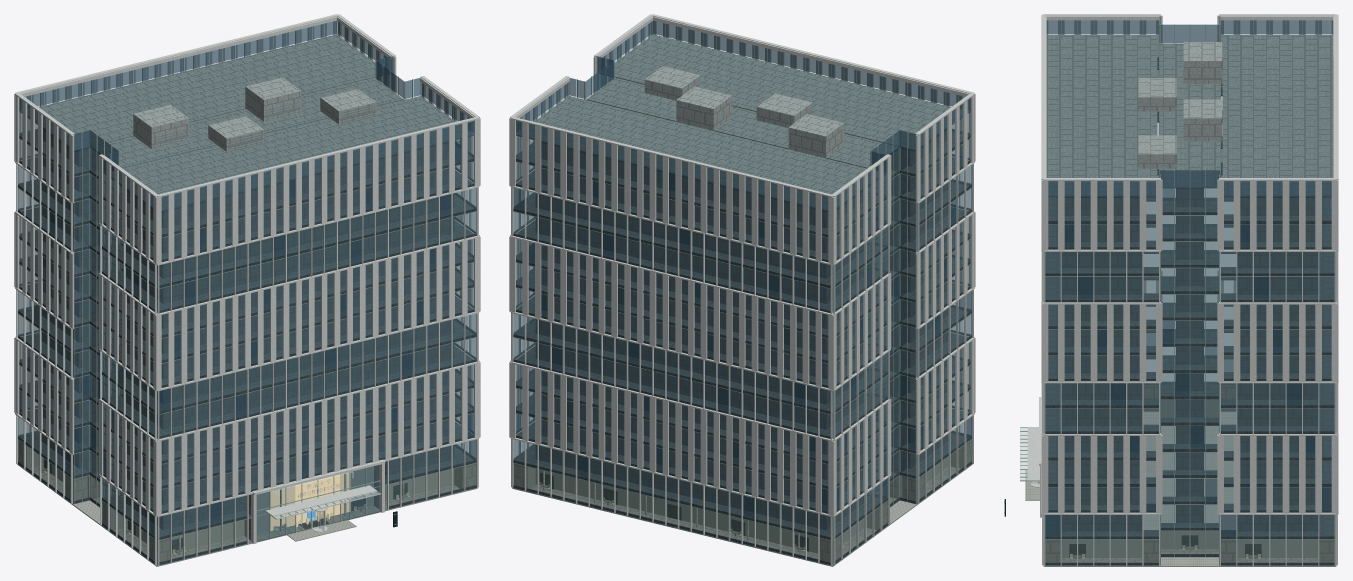
The picture shows the model from 3 angles, left to right: view 1: azimuth 30°, elevation 25°; view 2: azimuth 150°, elevation 25°; view 3: azimuth 270°, elevation 25°; orthographic projection. The views are drawn at different scales.
Visible parts, largest first — view 1: 03_Columns_and_Fins__Warm silver aluminium, 01_MainBody__Opaque facade backing, Entrance_elevation_Glass_plane__Glazing_office, 07_Roof__Roof membrane, 04_FloorBands__Opaque facade backing, Entrance_elevation_Depth__Opaque facade backing, 04_FloorBands__Warm silver aluminium, Entrance_elevation_Glass_plane__Glazing_reflective, 07_Roof__Roof equipment, Side_-1_wing_1_Glass_plane__Glazing_office, Side_-1_wing_-1_Glass_plane__Glazing_office, 03_Columns_and_Fins__Slender anodised mullions (+32 smaller); view 2: 03_Columns_and_Fins__Warm silver aluminium, 01_MainBody__Opaque facade backing, Rear_elevation_PROVISIONAL_Glass_plane__Glazing_office, 07_Roof__Roof membrane, 04_FloorBands__Opaque facade backing, Rear_elevation_PROVISIONAL_Depth__Opaque facade backing, 04_FloorBands__Warm silver aluminium, Rear_elevation_PROVISIONAL_Glass_plane__Glazing_reflective, Side_-1_wing_-1_Glass_plane__Glazing_office, Side_-1_wing_1_Glass_plane__Glazing_office, 07_Roof__Roof equipment, 03_Columns_and_Fins__Slender anodised mullions (+27 smaller); view 3: 07_Roof__Roof membrane, 01_MainBody__Opaque facade backing, 03_Columns_and_Fins__Warm silver aluminium, Side_1_wing_-1_Glass_plane__Glazing_office, Side_1_wing_1_Glass_plane__Glazing_office, Side_1_recess_Glass_plane__Glazing_office, 04_FloorBands__Opaque facade backing, 04_FloorBands__Warm silver aluminium, 07_Roof__Roof equipment, Side_1_wing_1_Depth__Opaque facade backing, Side_1_wing_-1_Depth__Opaque facade backing, Foundation (+23 smaller).
Boxes of the visible parts, x1,y1,x2,y2 form: 03_Columns_and_Fins__Warm silver aluminium: (14, 21, 480, 565); 01_MainBody__Opaque facade backing: (41, 128, 454, 530); Entrance_elevation_Glass_plane__Glazing_office: (159, 137, 475, 536); 07_Roof__Roof membrane: (27, 34, 472, 211); 04_FloorBands__Opaque facade backing: (18, 129, 476, 564); Entrance_elevation_Depth__Opaque facade backing: (152, 158, 473, 539); 04_FloorBands__Warm silver aluminium: (15, 14, 479, 516); Entrance_elevation_Glass_plane__Glazing_reflective: (159, 120, 473, 524); 07_Roof__Roof equipment: (133, 77, 376, 151); Side_-1_wing_1_Glass_plane__Glazing_office: (103, 175, 154, 529); Side_-1_wing_-1_Glass_plane__Glazing_office: (18, 113, 70, 467); 03_Columns_and_Fins__Slender anodised mullions: (18, 21, 469, 565); 03_Columns_and_Fins__Warm silver aluminium: (509, 21, 975, 565); 01_MainBody__Opaque facade backing: (535, 128, 948, 530); Rear_elevation_PROVISIONAL_Glass_plane__Glazing_office: (514, 137, 830, 536); 07_Roof__Roof membrane: (517, 34, 962, 211); 04_FloorBands__Opaque facade backing: (513, 129, 971, 564); Rear_elevation_PROVISIONAL_Depth__Opaque facade backing: (516, 155, 837, 539); 04_FloorBands__Warm silver aluminium: (510, 14, 974, 516); Rear_elevation_PROVISIONAL_Glass_plane__Glazing_reflective: (513, 120, 828, 518); Side_-1_wing_-1_Glass_plane__Glazing_office: (835, 175, 886, 534); Side_-1_wing_1_Glass_plane__Glazing_office: (919, 113, 971, 473); 07_Roof__Roof equipment: (644, 66, 844, 158); 03_Columns_and_Fins__Slender anodised mullions: (520, 21, 971, 565); 07_Roof__Roof membrane: (1046, 35, 1332, 196); 01_MainBody__Opaque facade backing: (1061, 188, 1318, 531); 03_Columns_and_Fins__Warm silver aluminium: (1041, 15, 1338, 566); Side_1_wing_-1_Glass_plane__Glazing_office: (1221, 198, 1334, 535); Side_1_wing_1_Glass_plane__Glazing_office: (1045, 198, 1158, 535); Side_1_recess_Glass_plane__Glazing_office: (1161, 189, 1218, 527); 04_FloorBands__Opaque facade backing: (1045, 57, 1334, 565); 04_FloorBands__Warm silver aluminium: (1041, 14, 1338, 514); 07_Roof__Roof equipment: (1138, 42, 1222, 168); Side_1_wing_1_Depth__Opaque facade backing: (1045, 216, 1158, 536); Side_1_wing_-1_Depth__Opaque facade backing: (1221, 216, 1334, 536); Foundation: (1043, 411, 1336, 566).
Bounding box in the file's own units: 60.78 × 67.18 × 51.82.
Materials: 106 (63 with a texture image).
